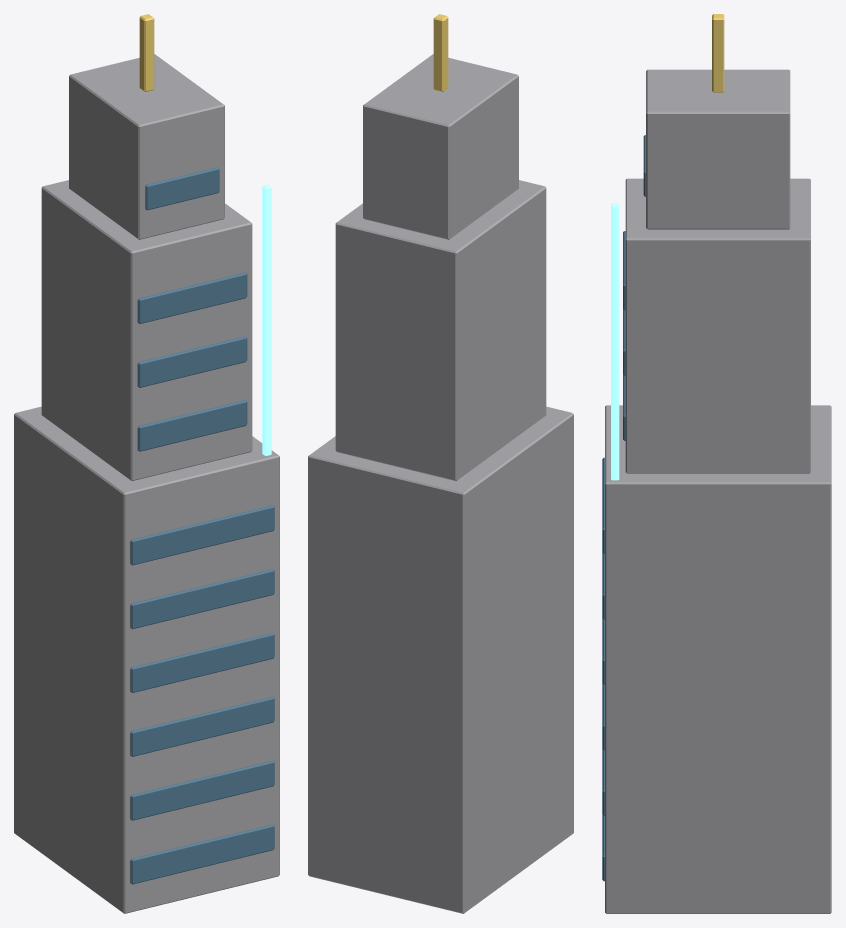
The model's file is skyscraper.fbx.
3 views of the same model, side by side, from view 1: azimuth 30°, elevation 25°; view 2: azimuth 150°, elevation 25°; view 3: azimuth 270°, elevation 25° (orthographic). The views are drawn at different scales.
Parts seen in each view (by area): view 1: skyscraper; view 2: skyscraper; view 3: skyscraper.
Boxes of the visible parts, <box> form: skyscraper: <box>14,14,279,913</box>; skyscraper: <box>308,14,573,913</box>; skyscraper: <box>602,14,831,913</box>.
Bounding box in the file's own units: 18 × 92 × 22.25.
